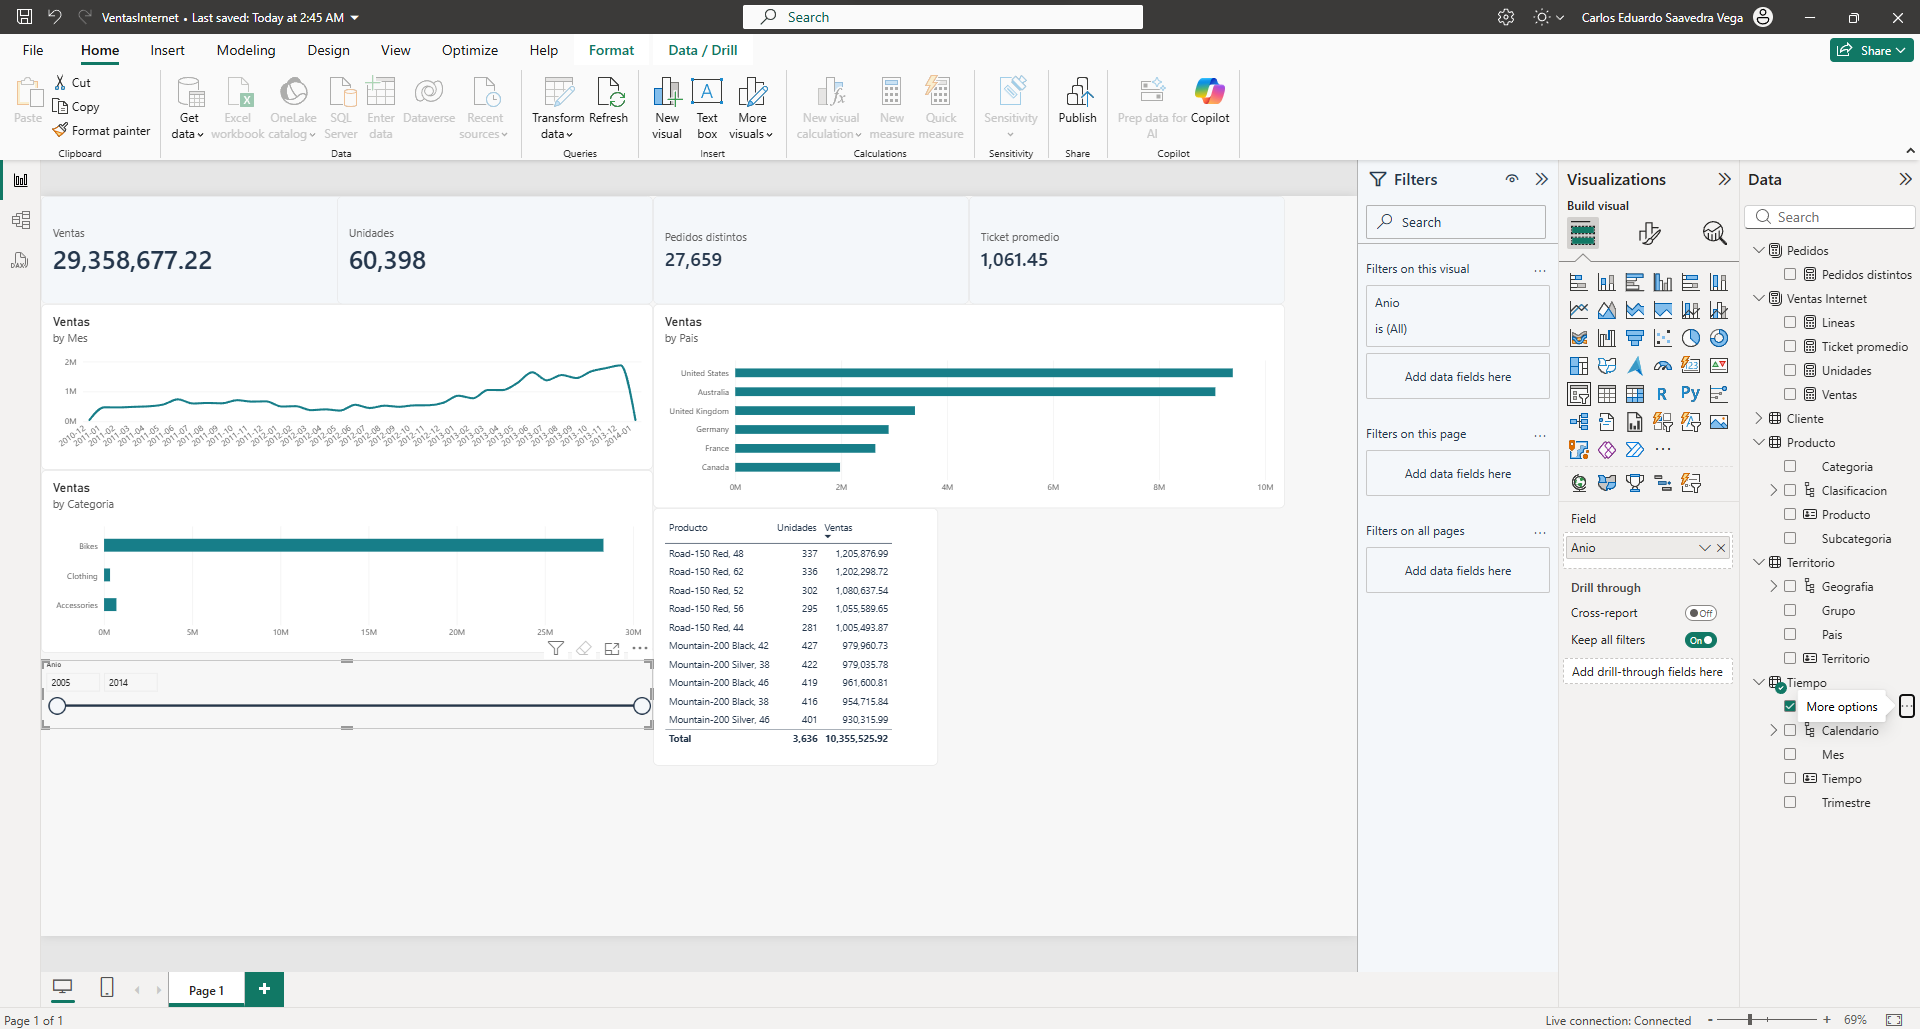

The dashboard page shown, as its layout file describes it:
{"tool":"powerbi","page":{"name":"Page 1","canvas":[1920,1080],"ordinal":0},"visuals":[{"type":"cardVisual","fields":{"Data":["Ventas Internet.Ventas"]},"box":[0,0,461,157.6],"z":0},{"type":"cardVisual","fields":{"Data":["Ventas Internet.Unidades"]},"box":[431.9,0,461,158],"z":1001},{"type":"cardVisual","fields":{"Data":["Pedidos.Pedidos distintos"]},"box":[892.9,0,461,158],"z":1002},{"type":"cardVisual","fields":{"Data":["Ventas Internet.Ticket promedio"]},"box":[1353.9,0,461,158],"z":1003},{"type":"lineChart","fields":{"Category":["Tiempo.Mes"],"Y":["Ventas Internet.Ventas"]},"box":[0,157.6,892.9,242.2],"z":1004},{"type":"clusteredBarChart","fields":{"Category":["Territorio.Pais"],"Y":["Ventas Internet.Ventas"]},"box":[892.9,157.6,922.1,297.6],"z":1005},{"type":"clusteredBarChart","fields":{"Category":["Producto.Categoria"],"Y":["Ventas Internet.Ventas"]},"box":[0,399.8,892.9,267],"z":1006},{"type":"tableEx","fields":{"Values":["Producto.Producto","Ventas Internet.Unidades","Ventas Internet.Ventas"]},"box":[892.9,455.2,415.8,376.4],"z":1007},{"type":"slicer","fields":{"Values":["Tiempo.Anio"]},"box":[0,677,892.9,100.7],"z":1008}]}

Visuals, with their boxes on the page's 1920x1080 design canvas (x1, y1, x2, y2). These are canvas units, not pixel positions in the 1920x1029 screenshot, which may show the page scaled, cropped or inside an application window:
cardVisual - Ventas Internet.Ventas: [x1=0, y1=0, x2=461, y2=158]
cardVisual - Ventas Internet.Unidades: [x1=432, y1=0, x2=893, y2=158]
cardVisual - Pedidos.Pedidos distintos: [x1=893, y1=0, x2=1354, y2=158]
cardVisual - Ventas Internet.Ticket promedio: [x1=1354, y1=0, x2=1815, y2=158]
lineChart - Tiempo.Mes x Ventas Internet.Ventas: [x1=0, y1=158, x2=893, y2=400]
clusteredBarChart - Territorio.Pais x Ventas Internet.Ventas: [x1=893, y1=158, x2=1815, y2=455]
clusteredBarChart - Producto.Categoria x Ventas Internet.Ventas: [x1=0, y1=400, x2=893, y2=667]
tableEx - Producto.Producto x Ventas Internet.Unidades: [x1=893, y1=455, x2=1309, y2=832]
slicer - Tiempo.Anio: [x1=0, y1=677, x2=893, y2=778]
